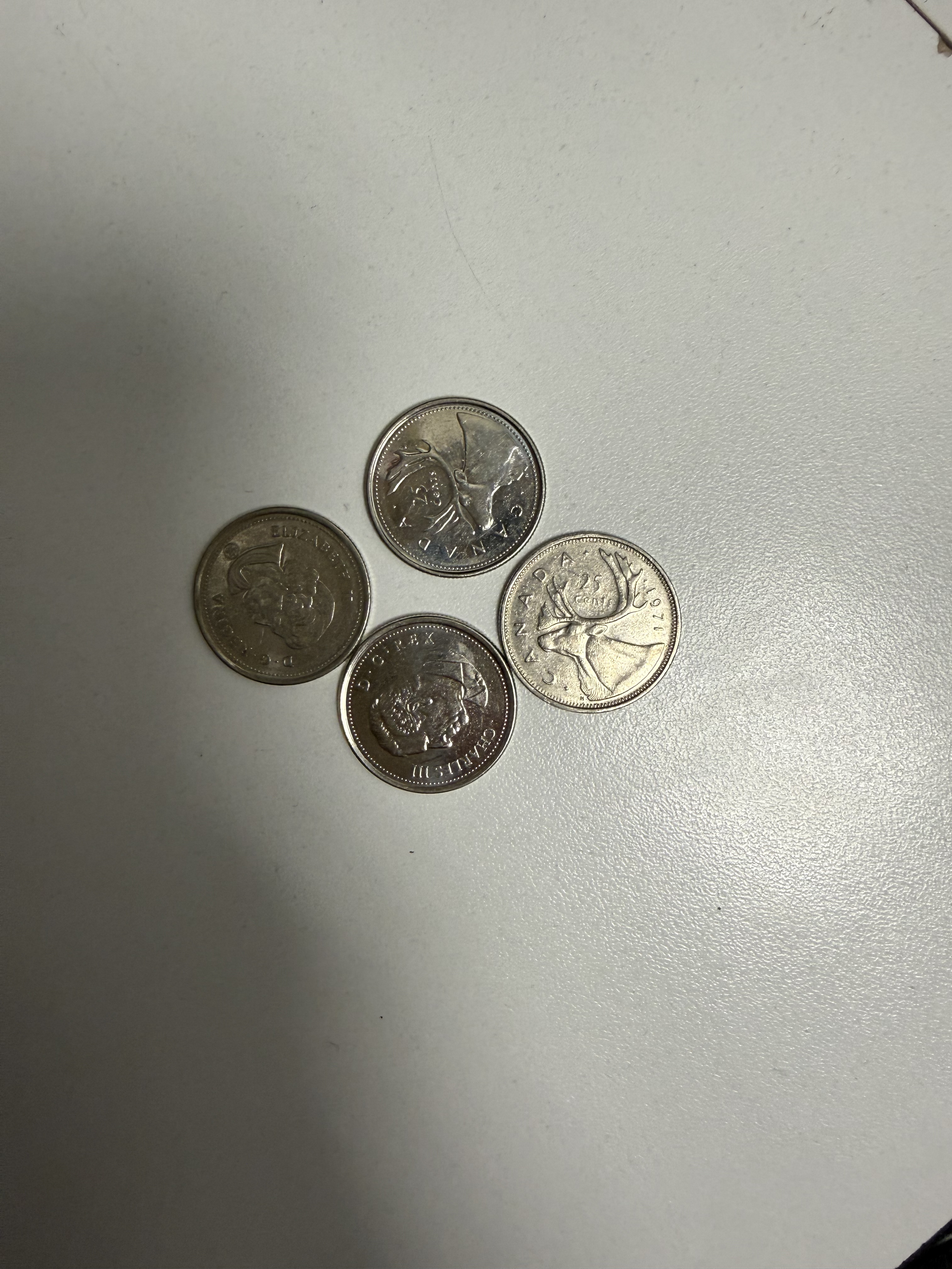coin: (500, 533, 680, 711), (339, 614, 516, 792), (367, 398, 544, 575), (194, 507, 370, 684)
